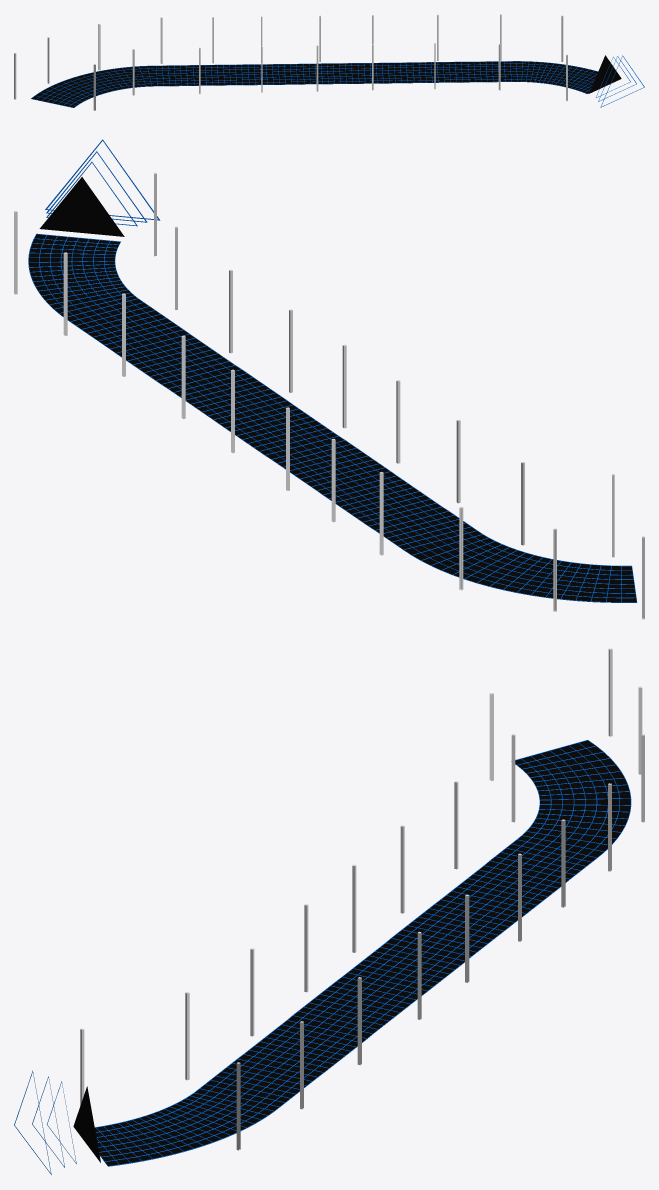
Rendered from tunnelEffects.glb.
The picture shows the model from 3 angles, top to bottom: view 1: azimuth 30°, elevation 25°; view 2: azimuth 150°, elevation 25°; view 3: azimuth 270°, elevation 25°; orthographic projection. The views are drawn at different scales.
Visible parts, largest first — view 1: tunnelPlane, tunnelGrid, videoTriangle; view 2: tunnelPlane, tunnelGrid, videoTriangle; view 3: tunnelPlane, tunnelGrid, videoTriangle.
Part boxes in pixels (x1=…): tunnelPlane: x1=31, y1=61, x2=597, y2=107; tunnelGrid: x1=31, y1=61, x2=597, y2=107; videoTriangle: x1=589, y1=55, x2=621, y2=93; tunnelPlane: x1=29, y1=234, x2=636, y2=602; tunnelGrid: x1=28, y1=233, x2=637, y2=602; videoTriangle: x1=39, y1=177, x2=124, y2=236; tunnelPlane: x1=95, y1=740, x2=630, y2=1165; tunnelGrid: x1=95, y1=740, x2=631, y2=1166; videoTriangle: x1=73, y1=1086, x2=100, y2=1162.
Size of the model in its own units: 1123 by 102 by 672.
Materials: 4 (1 with a texture image).
